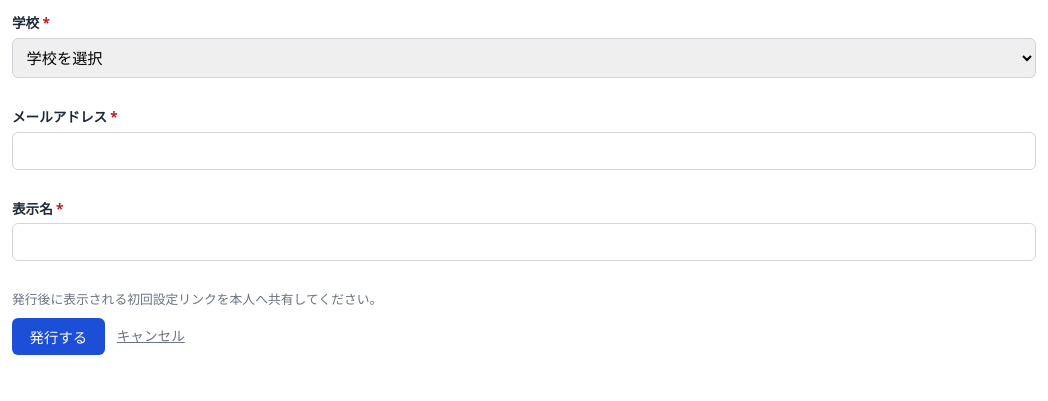
SystemStaffCreateForm (#508 system_admin 発行フォーム) › 失敗時はエラーメッセージを表示し、成功 UI (setupLink) を出さない
Select "岐阜県 / 岐南工業高校" in the dropdown labelled "学校": [524, 58] box 12,38 -> 1036,78
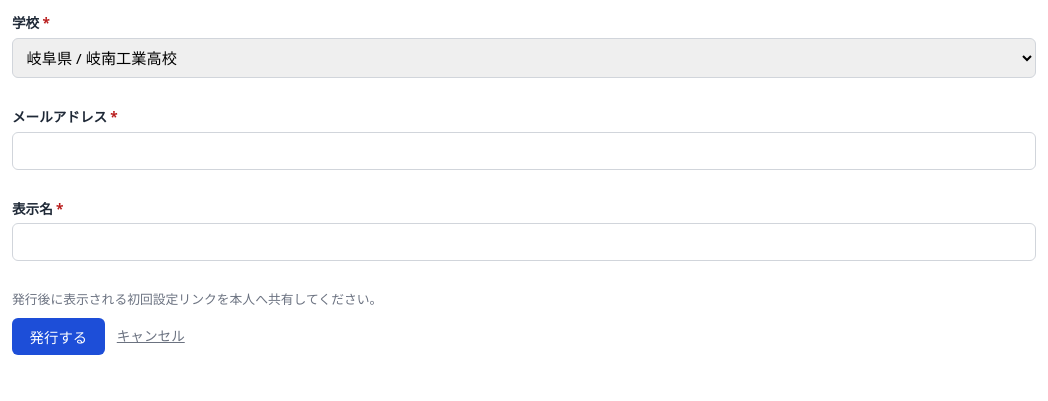
In the field labelled "メールアドレス": [524, 150] box 12,132 -> 1036,170, type "admin@example.com"
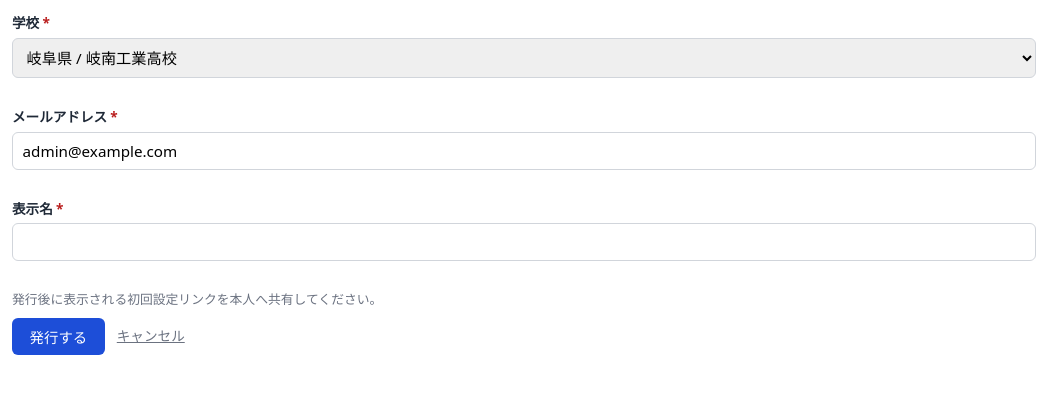
In the field labelled "表示名": [524, 242] box 12,223 -> 1036,261, type "学校管理者A"
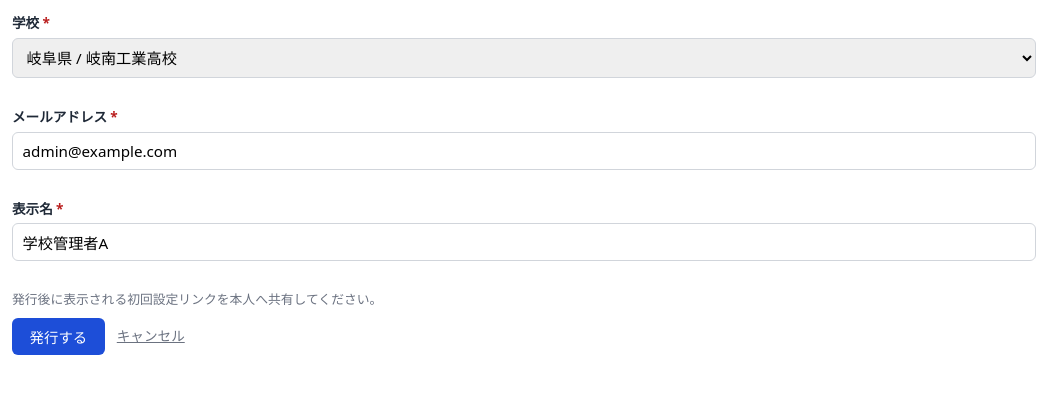
Click the button "発行する": [58, 336] box 12,318 -> 105,355
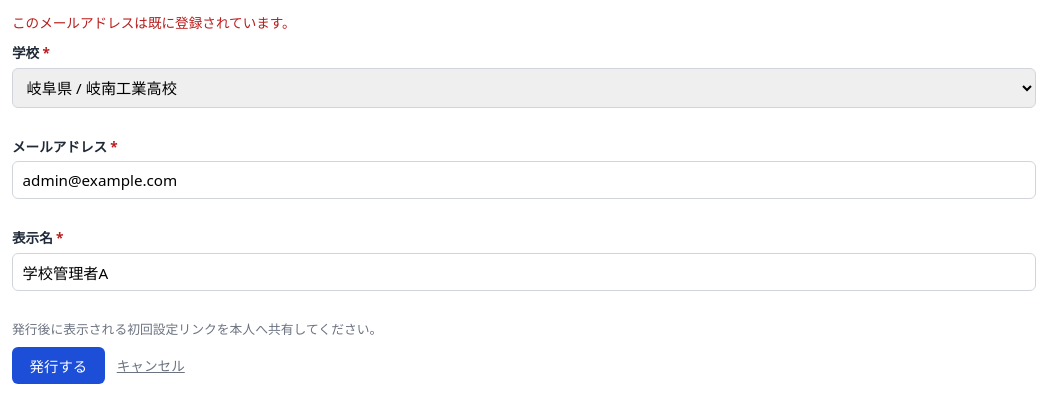
Now the text "このメールアドレスは既に登録されています。" is shown, box 12,13 -> 296,32
